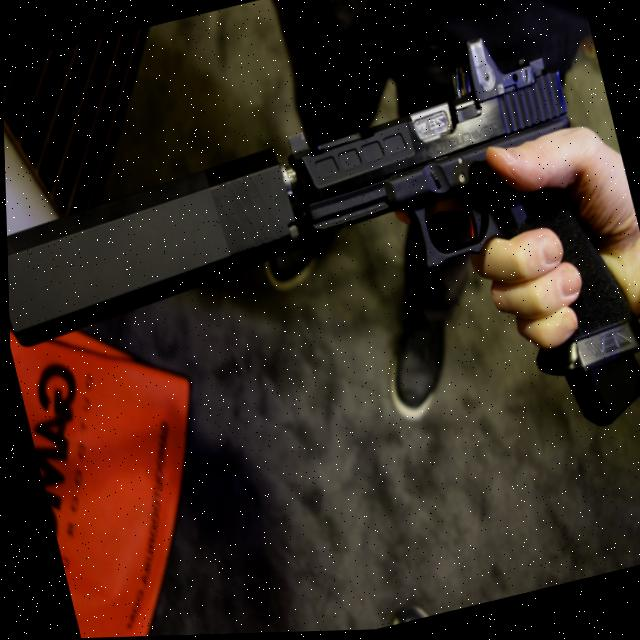pistol: (0, 6, 640, 561)
